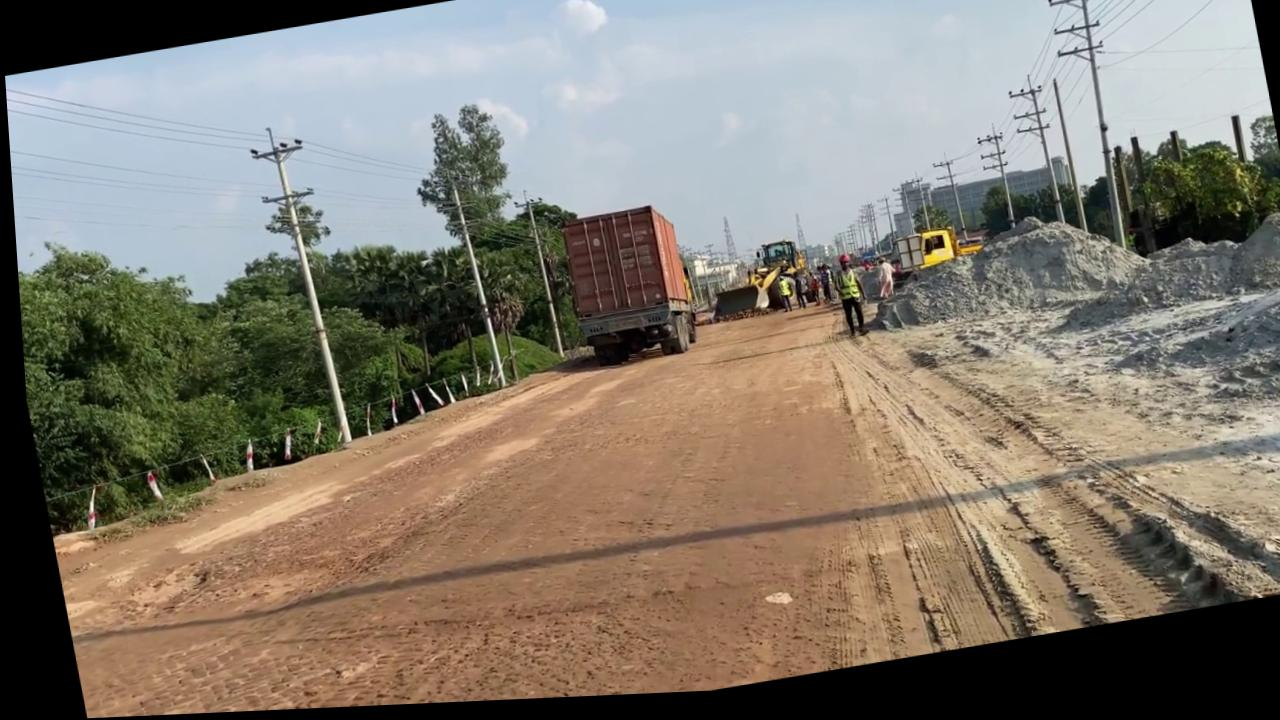Light-pole: (243, 123, 356, 454)
Obstacle: (551, 205, 697, 376)
Pole: (446, 181, 502, 395)
Traffic-sign: (12, 213, 248, 535), (398, 100, 545, 401)
Tree: (693, 242, 811, 330), (884, 228, 984, 293), (742, 243, 804, 289), (845, 241, 899, 292)
